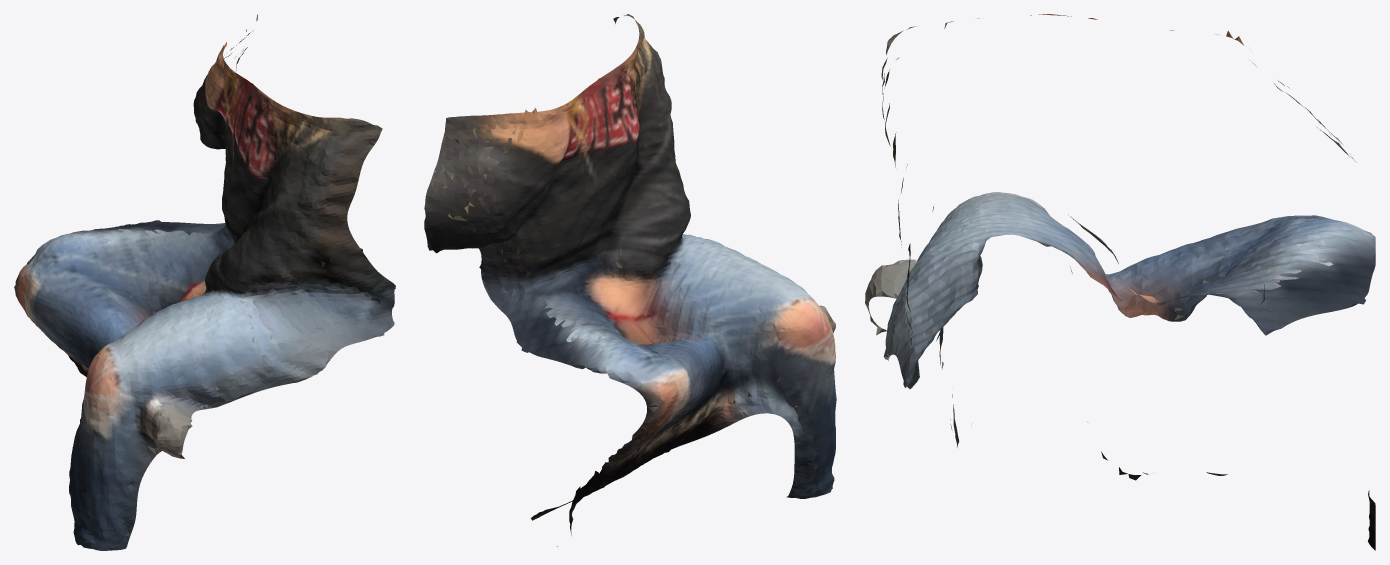
3 renders of one model, left to right at view 1: azimuth 30°, elevation 25°; view 2: azimuth 150°, elevation 25°; view 3: azimuth 270°, elevation 25°, orthographic. The views are drawn at different scales.
Bounding box in the file's own units: 0.4888 × 0.6495 × 0.5213.
Materials: 1 (1 with a texture image).
